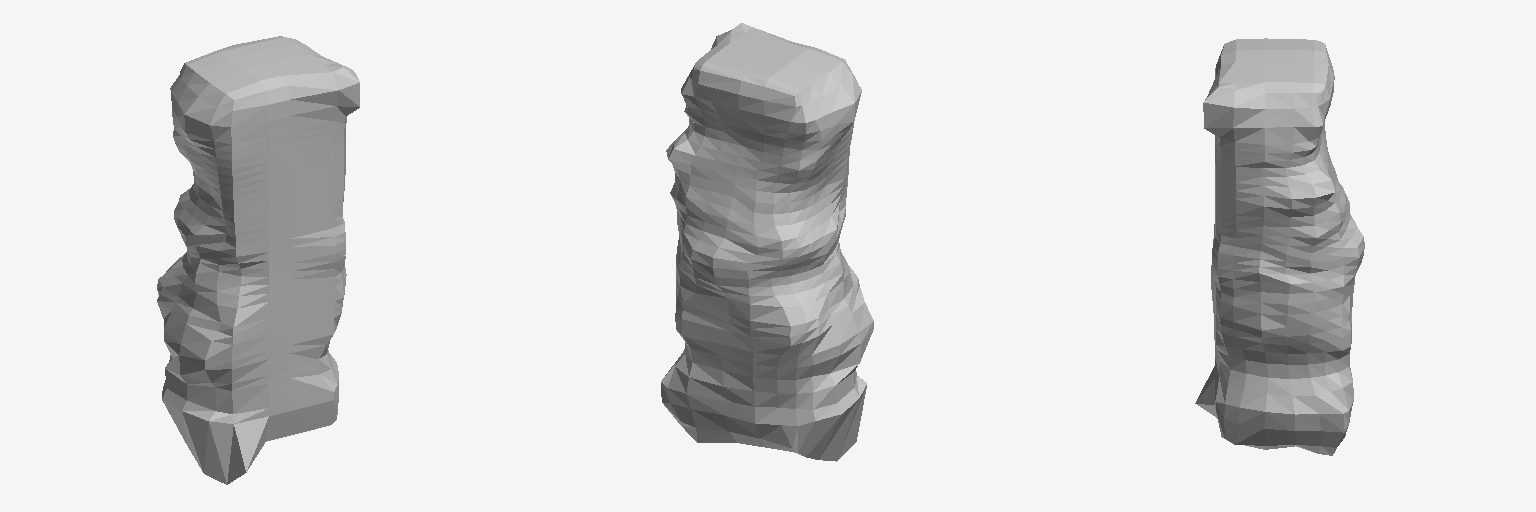
File: env_level1_Canyon_Rock07.obj
3 views of the same model, side by side, from view 1: azimuth 30°, elevation 25°; view 2: azimuth 150°, elevation 25°; view 3: azimuth 270°, elevation 25° (orthographic).
Parts seen in each view (by area): view 1: rockwall_b01; view 2: rockwall_b01; view 3: rockwall_b01.
Part boxes in pixels (bbox=[...]): rockwall_b01: bbox=[157, 36, 359, 484]; rockwall_b01: bbox=[661, 23, 873, 461]; rockwall_b01: bbox=[1195, 38, 1364, 455].
Size of the model in its own units: 2170 by 4798 by 1872.